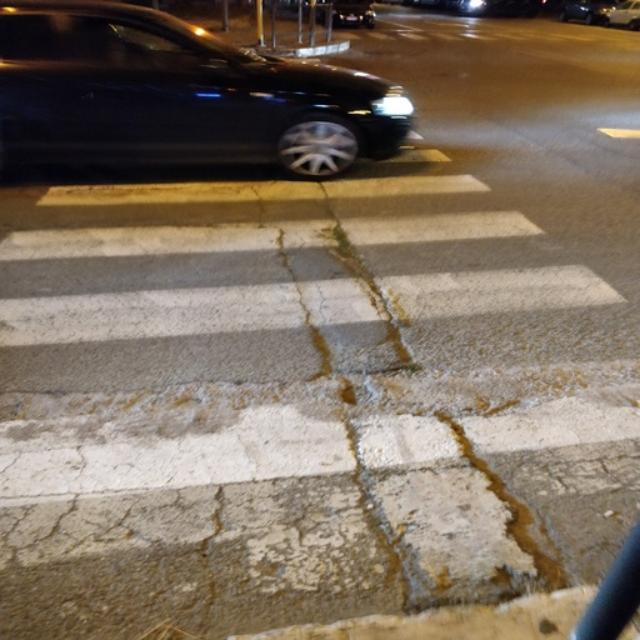sidewalk: (0, 169, 633, 507)
